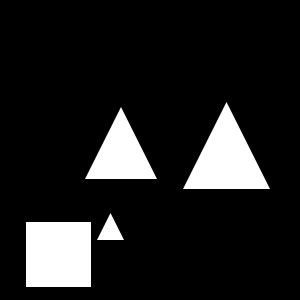circle: (26, 222, 91, 287)
triangle: (183, 102, 270, 189), (85, 107, 157, 179), (97, 213, 124, 240)
